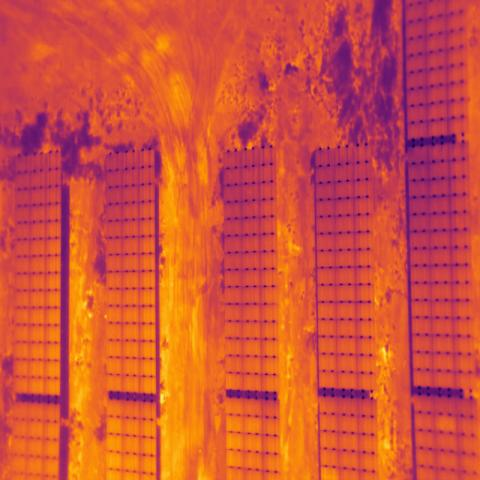fault: (319, 467, 341, 480)
